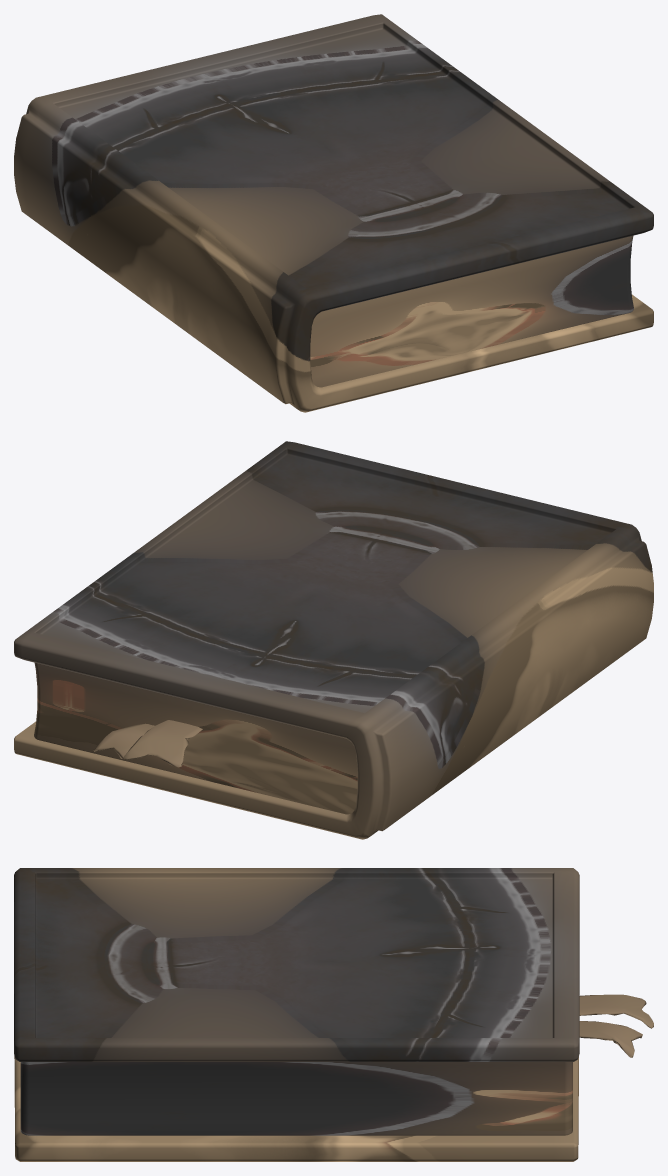
The model's file is SM_Book_02.fbx.
The picture shows the model from 3 angles, top to bottom: view 1: azimuth 30°, elevation 25°; view 2: azimuth 150°, elevation 25°; view 3: azimuth 270°, elevation 25°; orthographic projection. The views are drawn at different scales.
Parts seen in each view (by area): view 1: SM_Book_02_LOD0; view 2: SM_Book_02_LOD0; view 3: SM_Book_02_LOD0.
Part boxes in pixels (left/top/right/bottom): SM_Book_02_LOD0: left=14, top=14, right=653, bottom=412; SM_Book_02_LOD0: left=14, top=441, right=653, bottom=839; SM_Book_02_LOD0: left=14, top=868, right=653, bottom=1161.
Size of what is drawn, in the model's own units: 0.6132 by 0.1845 by 0.8826.
